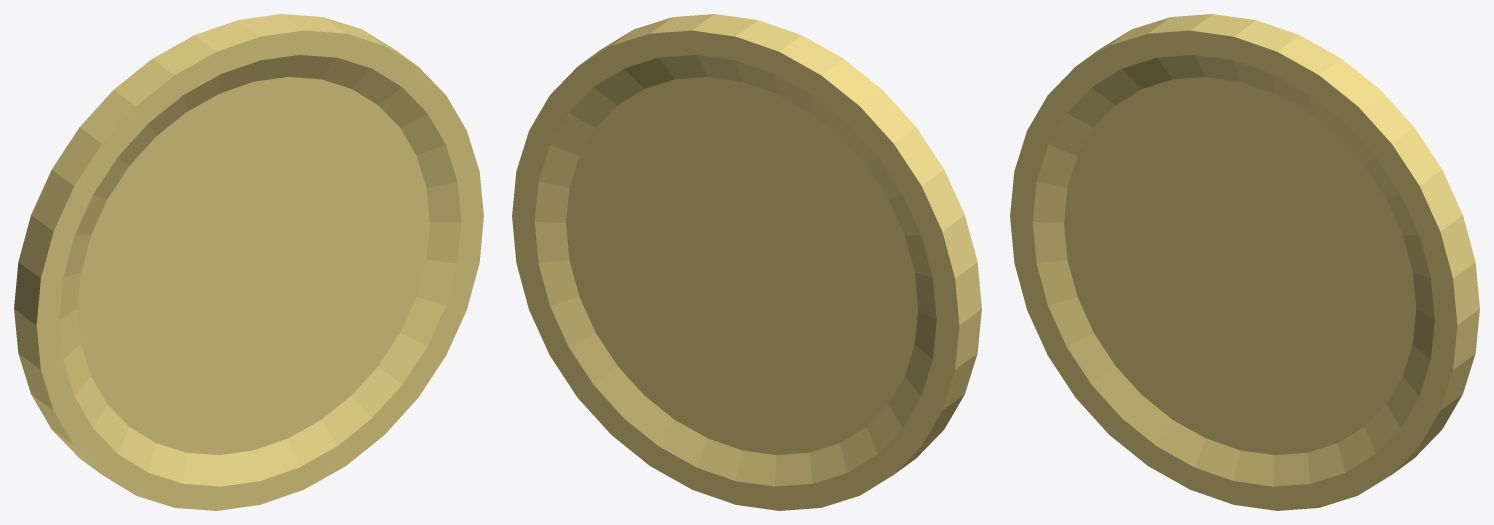
File: Coin Drop.fbx
3 renders of one model, left to right at view 1: azimuth 30°, elevation 25°; view 2: azimuth 150°, elevation 25°; view 3: azimuth 330°, elevation 25°, orthographic.
Visible parts, largest first — view 1: Coin.003; view 2: Coin.003; view 3: Coin.003.
Boxes of the visible parts, x1,y1,x2,y2 form: Coin.003: (14, 14, 483, 510); Coin.003: (512, 14, 981, 510); Coin.003: (1010, 14, 1479, 510).
Size of the model in its own units: 0.2 by 0.2 by 0.0175.
